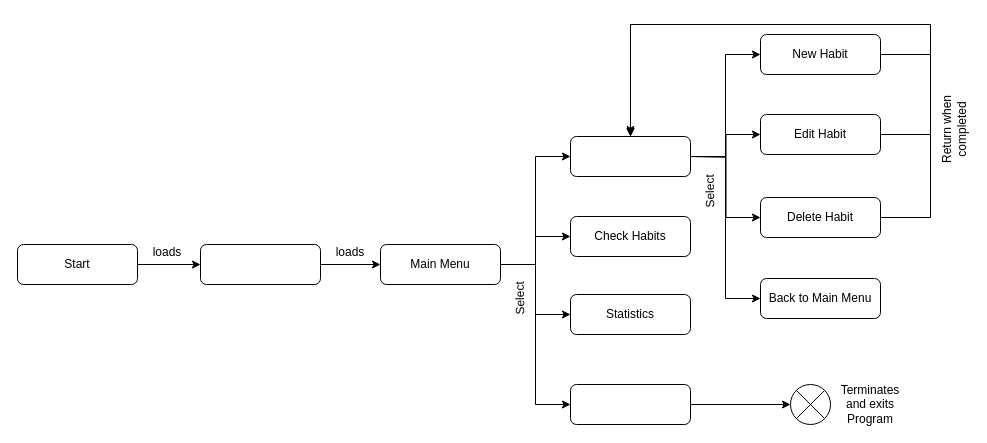
Some shapes in this 987 by 443 pixel diagram are drawn without their labels. Each missing label, with the centre of its shape:
End Program: the point at 630,404
Habits: the point at 630,156
Welcome Screen: the point at 260,264
